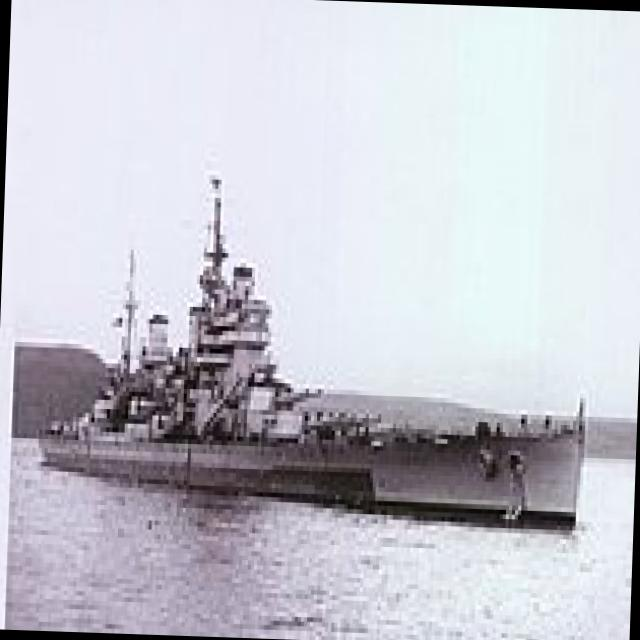boat: (34, 203, 602, 526)
